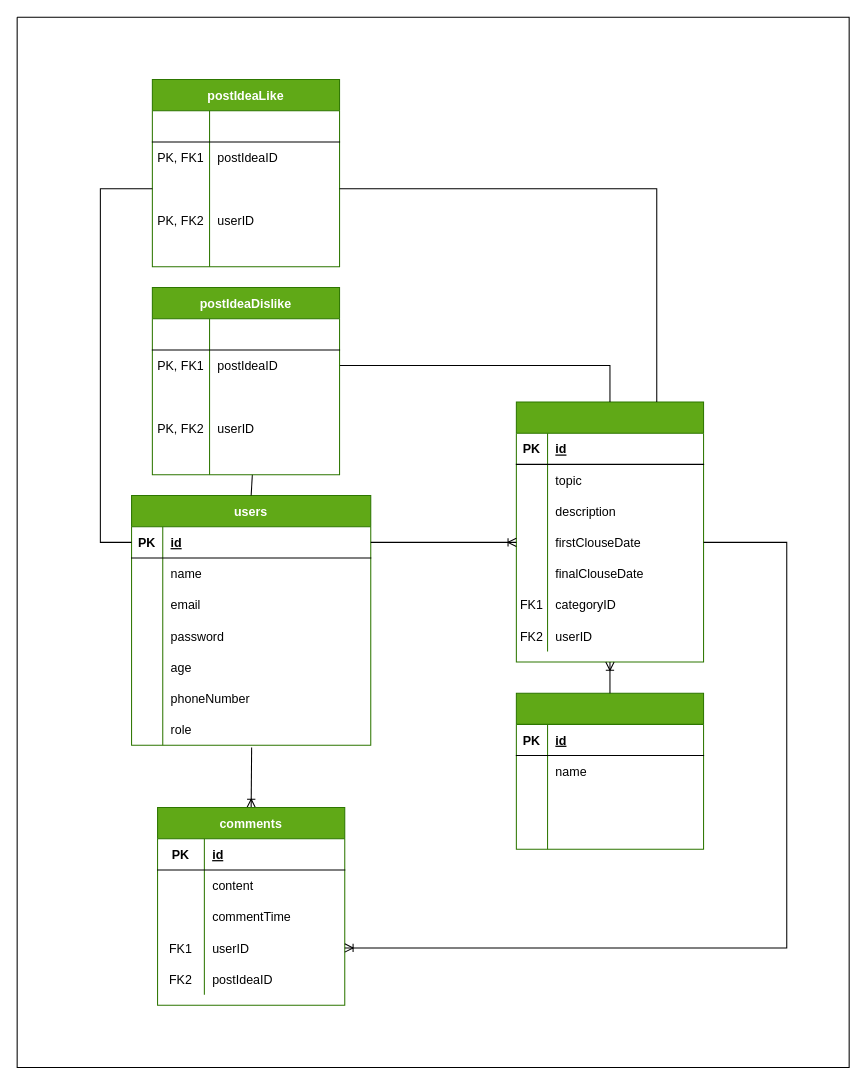
Image size: 866x1085. Some labels were removed from this diagram. Here are the shapes that lost their labels. From the top down, the box of each, then its label:
(515, 401, 704, 662): postIdeas
(515, 692, 704, 849): categories
